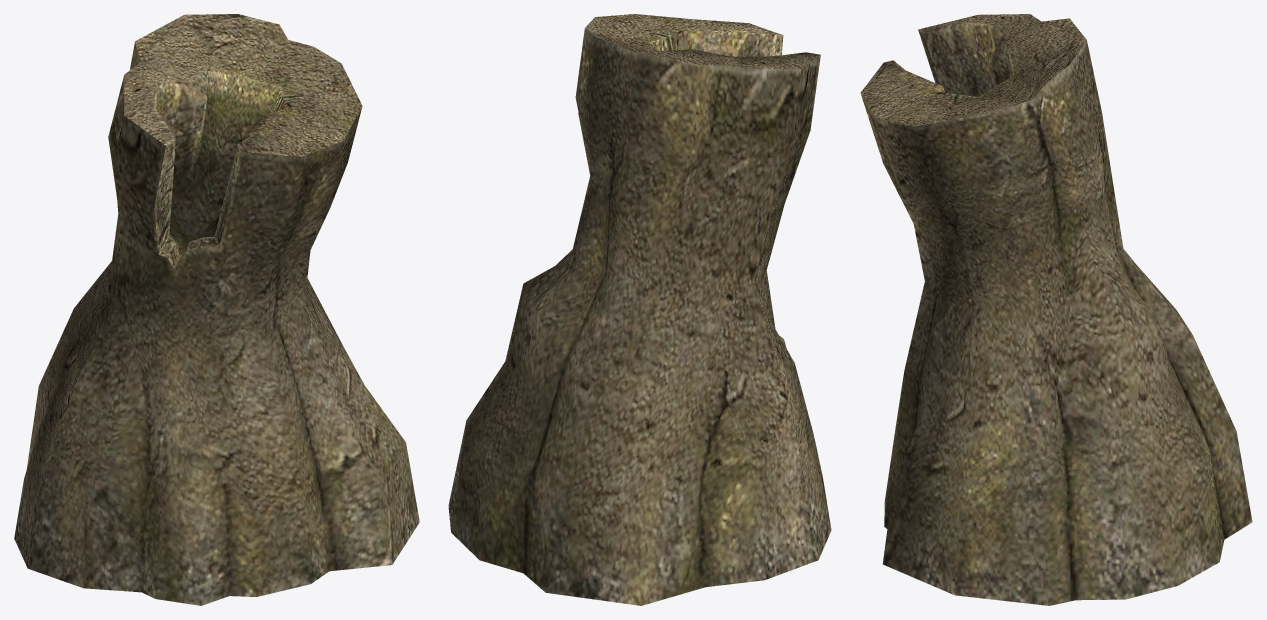
Rendered from anthill_04.fbx.
3 views of the same model, side by side, from view 1: azimuth 30°, elevation 25°; view 2: azimuth 150°, elevation 25°; view 3: azimuth 270°, elevation 25° (orthographic). The views are drawn at different scales.
Parts seen in each view (by area): view 1: objanthill_04; view 2: objanthill_04; view 3: objanthill_04.
Part boxes in pixels (<box>): objanthill_04: <box>14,14,419,605</box>; objanthill_04: <box>448,14,831,605</box>; objanthill_04: <box>860,14,1252,605</box>.
Bounding box in the file's own units: 11.42 × 15.08 × 11.17.
